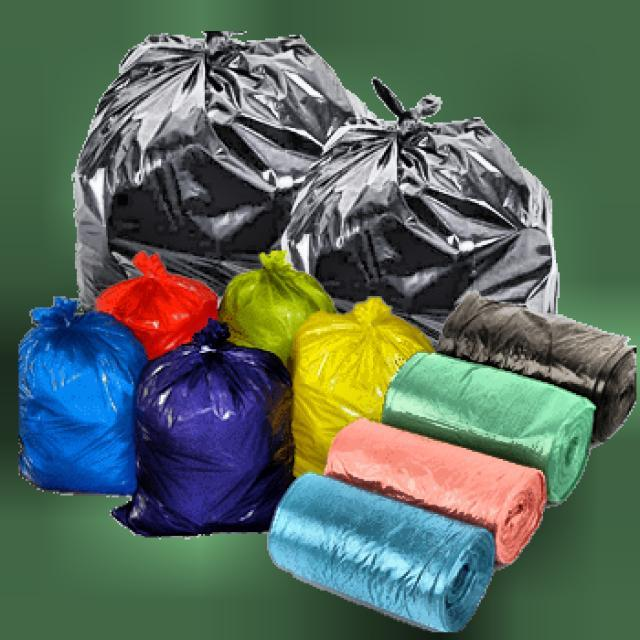Trashbag: (80, 39, 288, 268), (326, 121, 535, 292)
